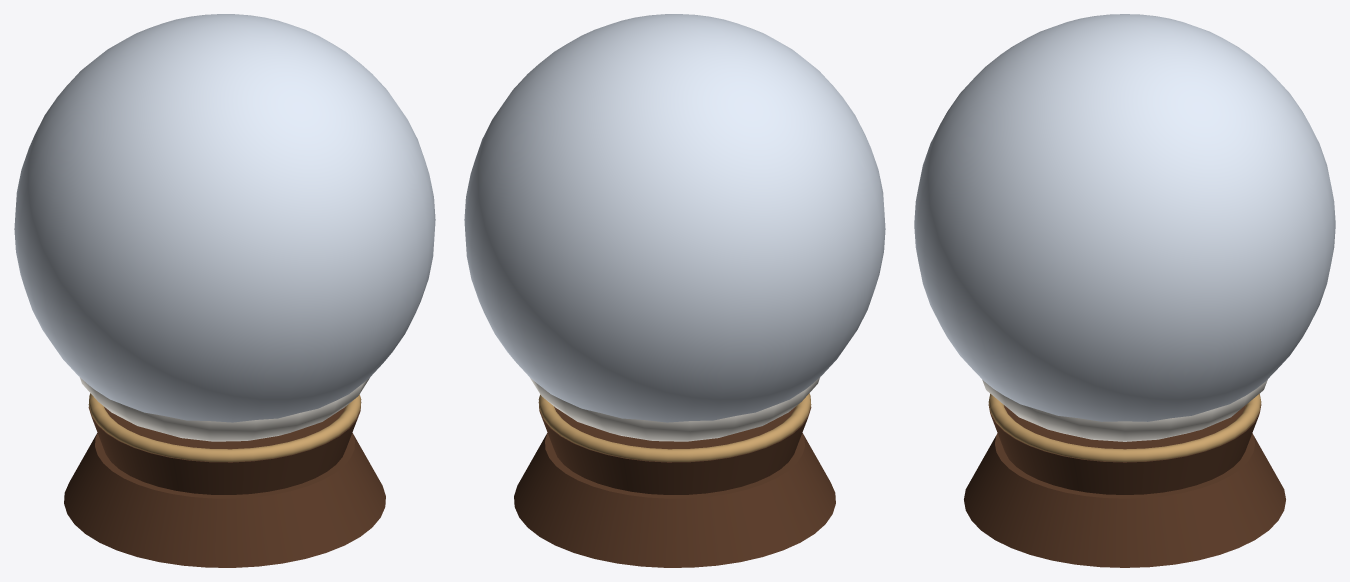
Rendered from crystalball.glb.
3 views of the same model, side by side, from view 1: azimuth 30°, elevation 25°; view 2: azimuth 150°, elevation 25°; view 3: azimuth 270°, elevation 25° (orthographic).
Parts seen in each view (by area): view 1: Glass, Walnut, Snow, Brass; view 2: Glass, Walnut, Snow, Brass; view 3: Glass, Walnut, Snow, Brass.
Boxes of the visible parts, x1,y1,x2,y2 form: Glass: (14, 14, 435, 422); Walnut: (64, 402, 385, 567); Snow: (79, 377, 369, 441); Brass: (88, 393, 361, 461); Glass: (464, 14, 885, 422); Walnut: (514, 402, 835, 567); Snow: (530, 377, 820, 441); Brass: (538, 393, 811, 461); Glass: (914, 14, 1335, 421); Walnut: (964, 404, 1285, 567); Snow: (982, 379, 1267, 441); Brass: (988, 393, 1261, 461).
Bounding box in the file's own units: 0.34 × 0.415 × 0.34.
